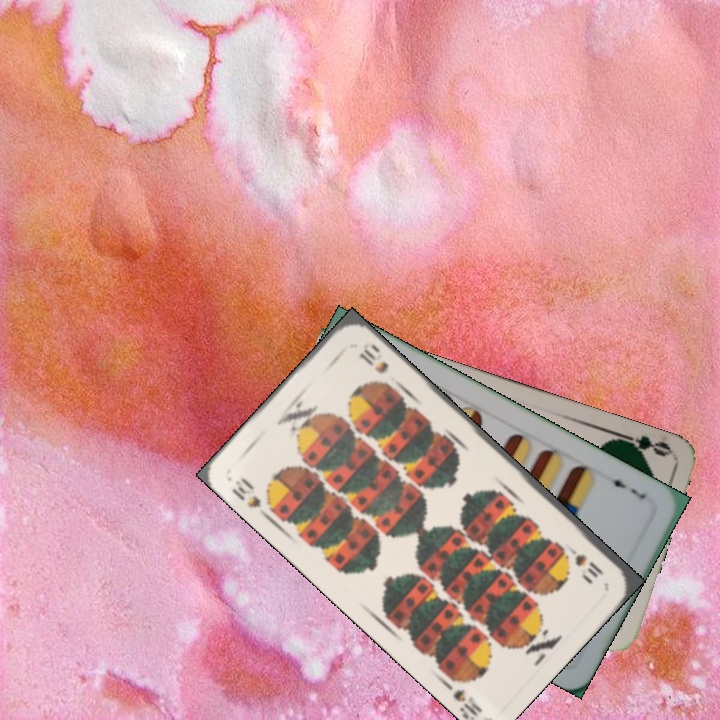E7: (605, 471, 649, 502)
GO: (614, 429, 673, 461)
S10: (227, 473, 272, 521), (559, 539, 607, 581)
